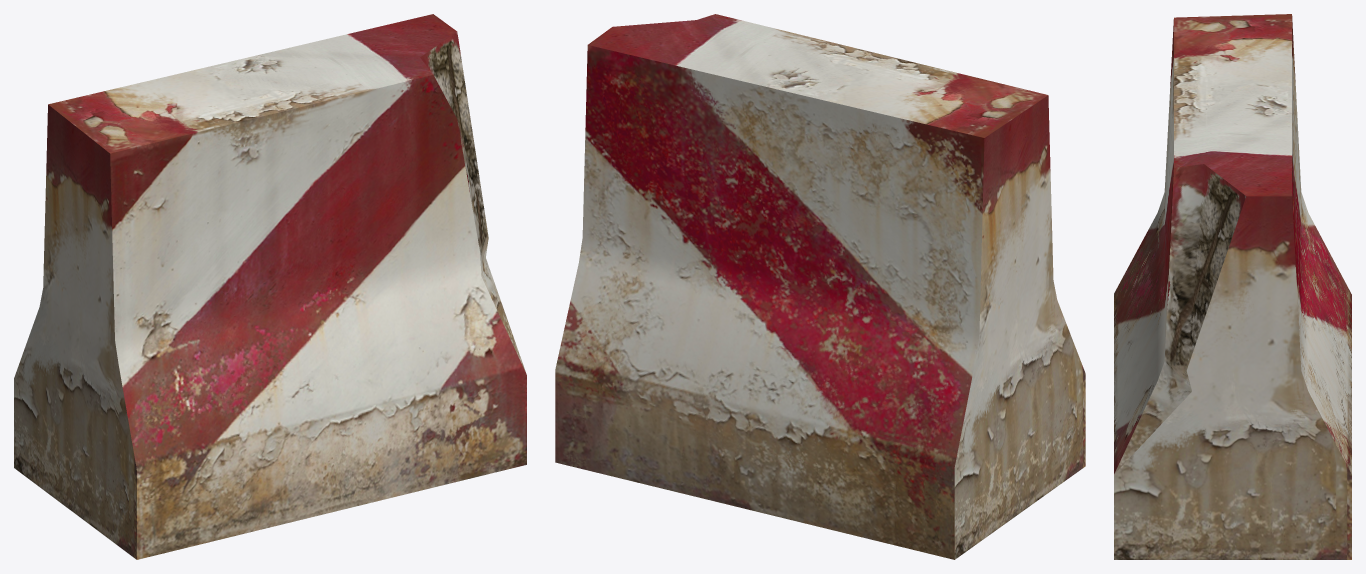
The model's file is roadblock2.fbx.
3 renders of one model, left to right at view 1: azimuth 30°, elevation 25°; view 2: azimuth 150°, elevation 25°; view 3: azimuth 270°, elevation 25°, orthographic. The views are drawn at different scales.
Visible parts, largest first — view 1: roadblock2; view 2: roadblock2; view 3: roadblock2.
Boxes of the visible parts, x1,y1,x2,y2 form: roadblock2: (14, 14, 526, 559); roadblock2: (555, 14, 1085, 559); roadblock2: (1114, 14, 1351, 559).
Bounding box in the file's own units: 89.87 × 49.87 × 85.28.
